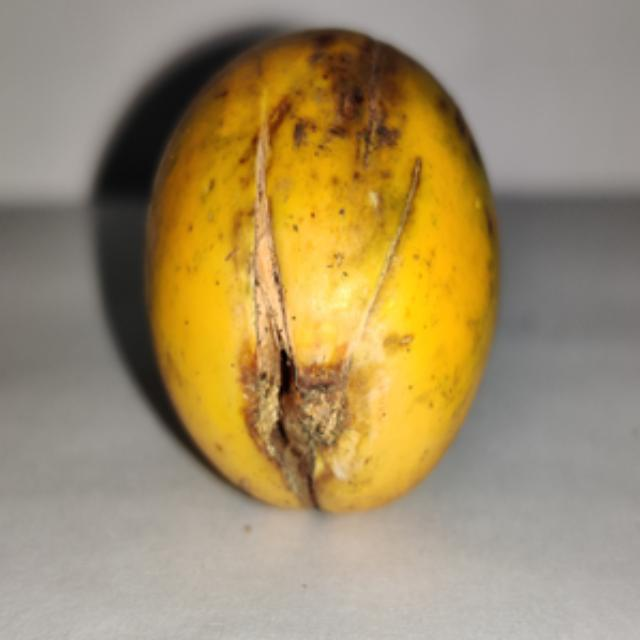damaged: (139, 28, 503, 518)
